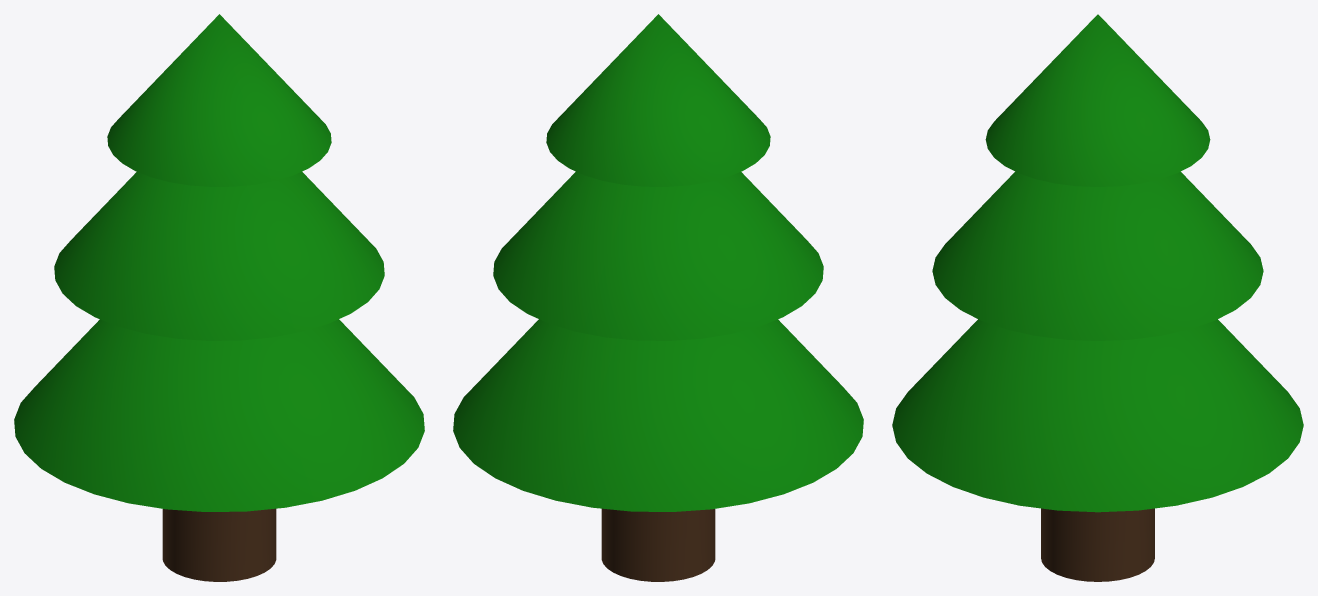
Rendered from Tree;).fbx.
3 renders of one model, left to right at view 1: azimuth 30°, elevation 25°; view 2: azimuth 150°, elevation 25°; view 3: azimuth 270°, elevation 25°, orthographic.
Parts seen in each view (by area): view 1: Tree:); view 2: Tree:); view 3: Tree:).
Part boxes in pixels (box(x1,y1,x2,y2)): Tree:): box(14, 14, 424, 581); Tree:): box(453, 14, 863, 581); Tree:): box(892, 14, 1303, 581).
Bounding box in the file's own units: 109 × 159 × 109.
